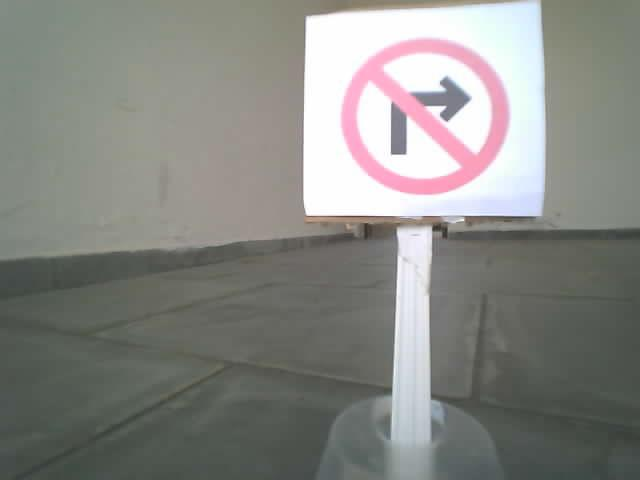R-4b_proibido-direita: (340, 36, 510, 196)
